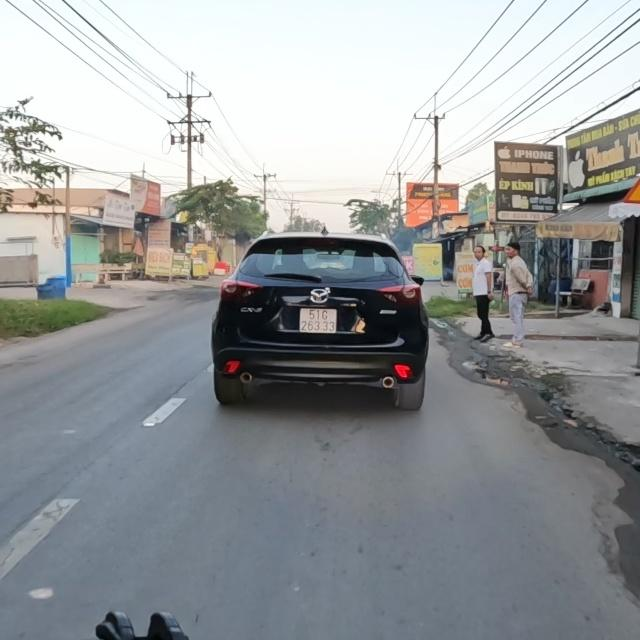license-plate: (298, 306, 338, 335)
